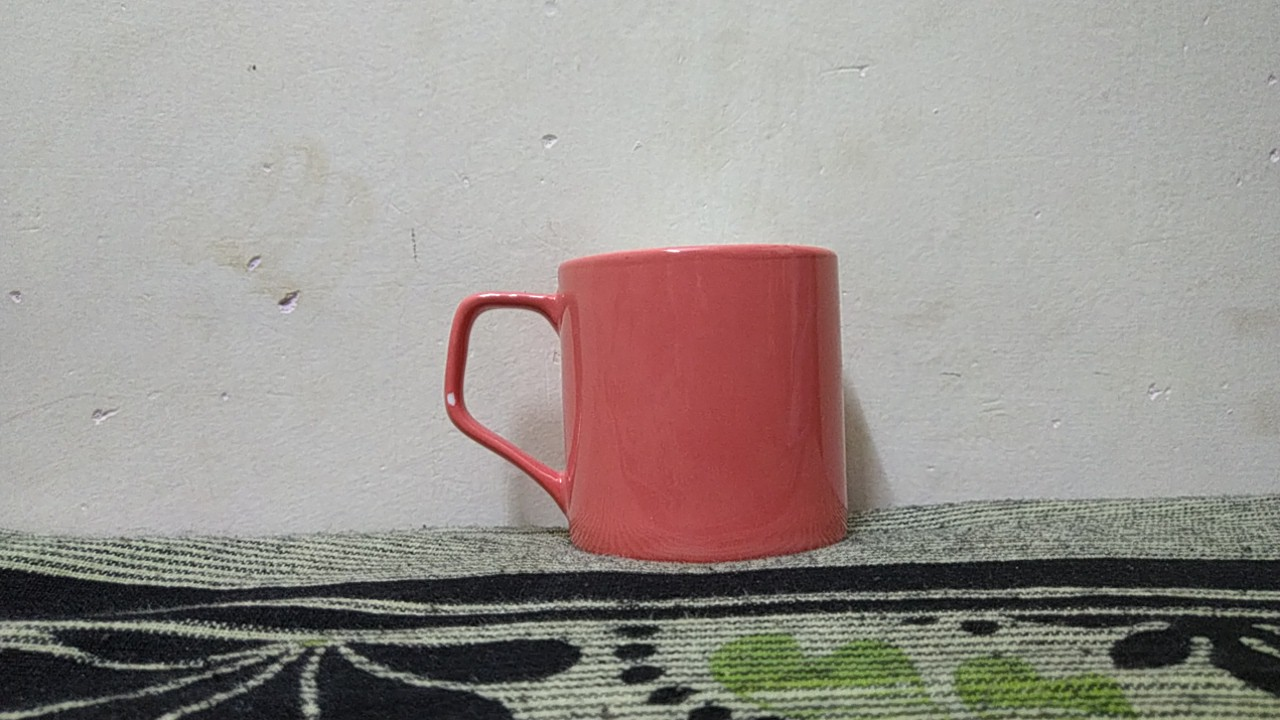cup: (426, 236, 900, 568)
